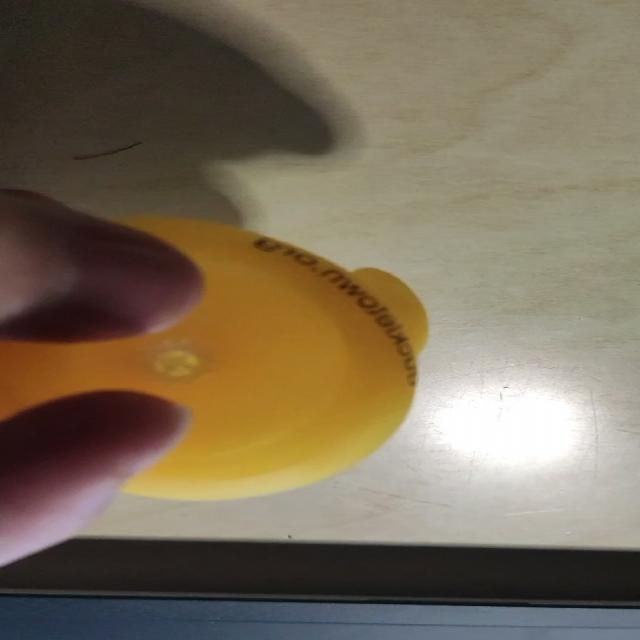rubber-duck: (0, 217, 426, 497)
